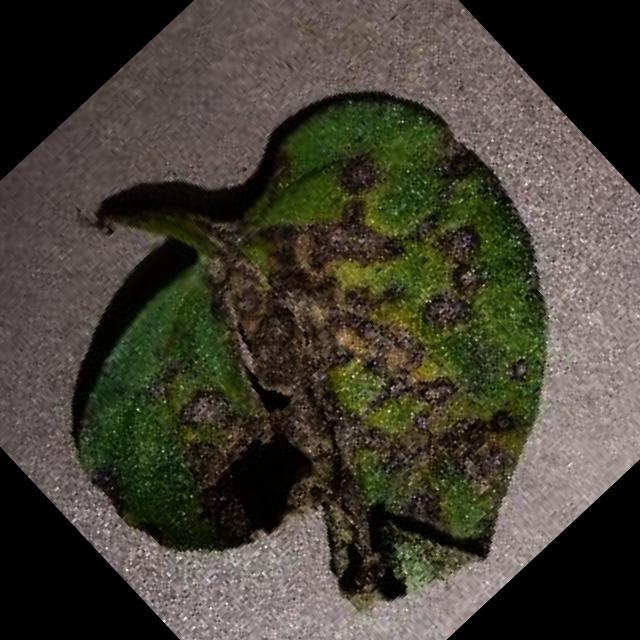Tomato Early blight leaf: (3, 50, 640, 640)
